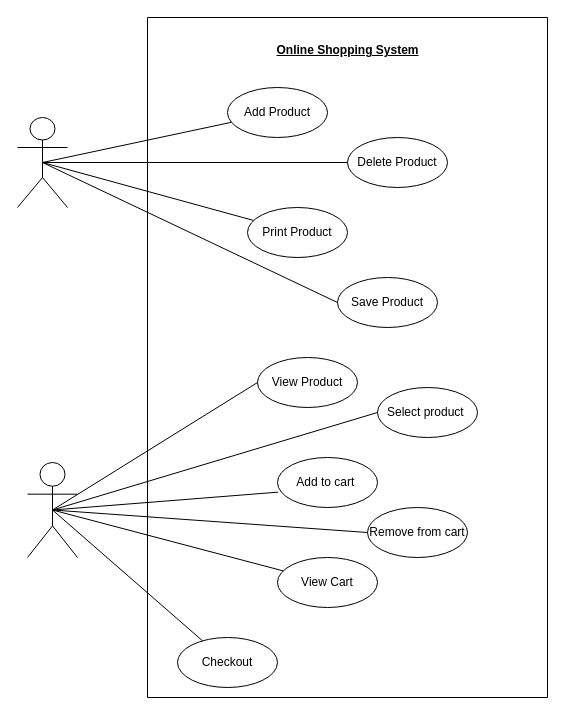
This 565x715 diagram has some shape labels left out. The centre of each missing label's shape, as x and y in pixels:
Manager: point (42, 162)
User: point (52, 510)
